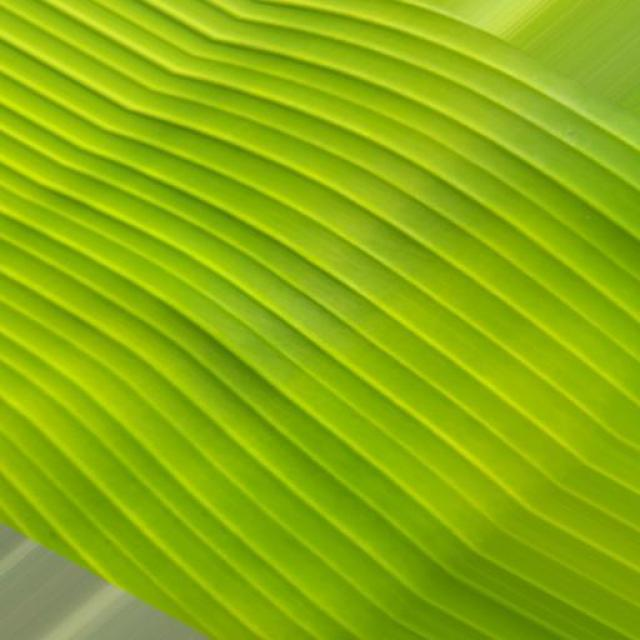Black_leaf_spot: (5, 0, 624, 639)
